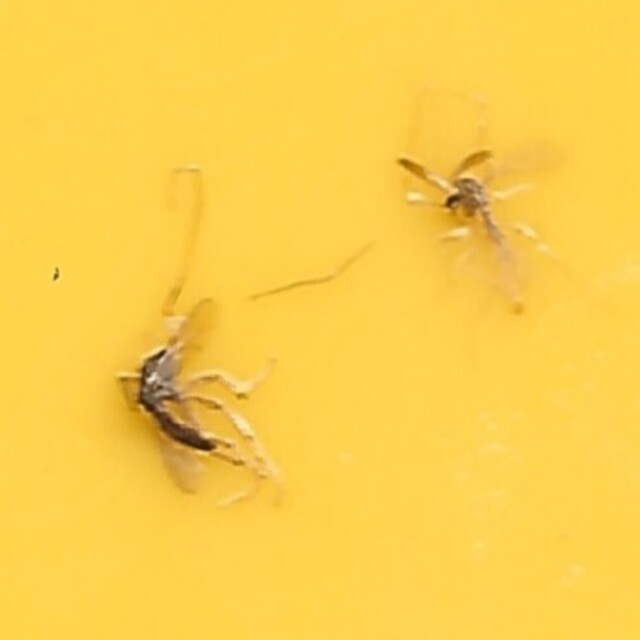Nematocera: (130, 344, 231, 467), (438, 173, 510, 253)
